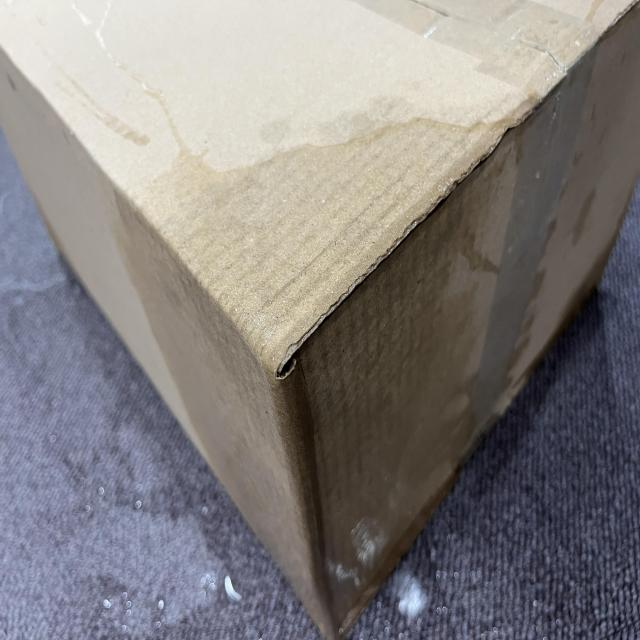wet: (88, 93, 520, 640)
